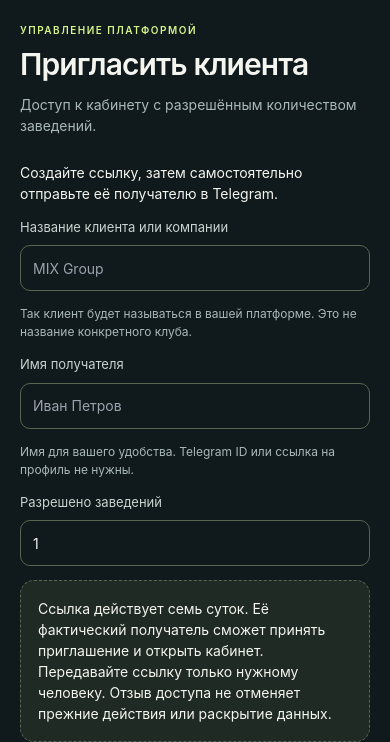
Scenario: connected onboarding screens › unknown mutation outcome retries the identical key and payload after lost response
This screenshot has width=390, height=742.
In the field labelled "Название клиента или компании": (195, 268) top-left (20, 245), bottom-right (370, 291), type "Synthetic Client"
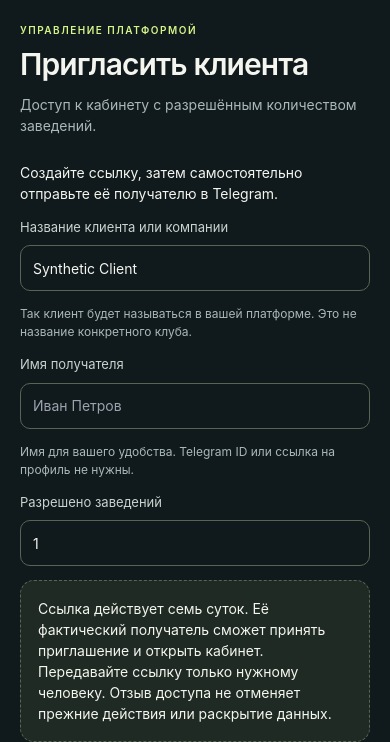
In the field labelled "Имя получателя": (195, 406) top-left (20, 382), bottom-right (370, 428), type "Candidate"
(page scrolled)
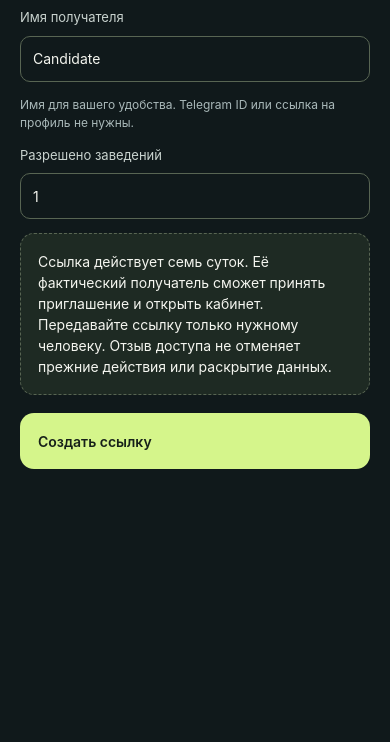
Click the button "Создать ссылку": (95, 441) top-left (20, 413), bottom-right (370, 469)
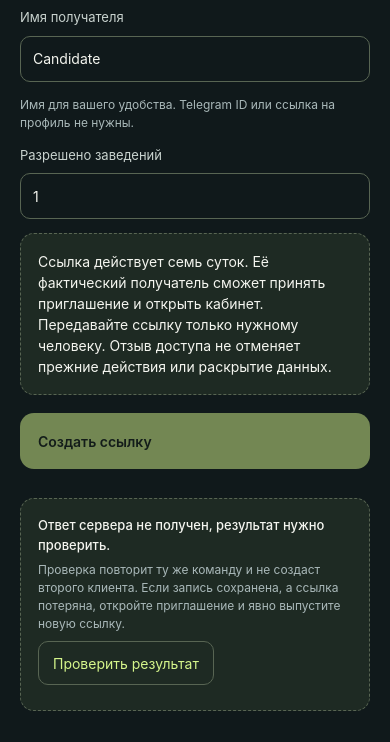
Now the heading "Ответ сервера не получен, результат нужно проверить." is shown, box top-left (38, 516), bottom-right (352, 555)
Click the button "Проверить результат": (126, 663) top-left (38, 641), bottom-right (214, 685)
(page scrolled)
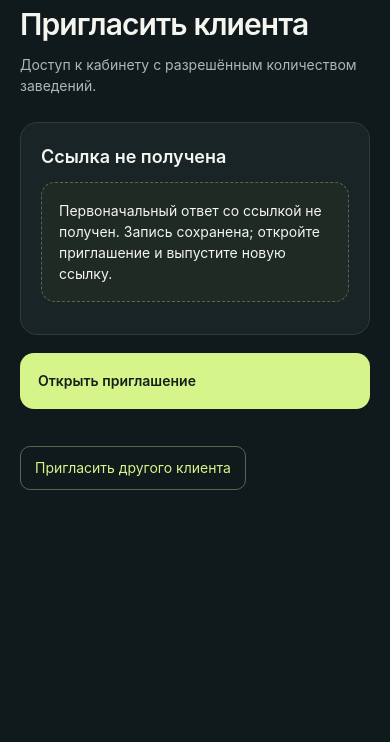
Now the text "Первоначальный ответ со ссылкой не получен" is shown, box top-left (59, 202), bottom-right (322, 282)
